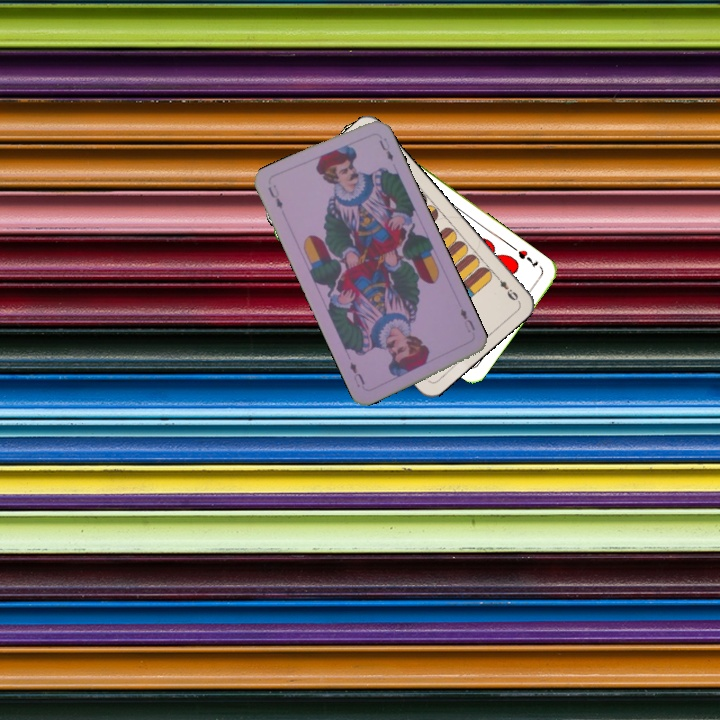E9: (491, 270, 521, 304)
EU: (456, 305, 478, 335), (264, 181, 285, 211)
H7: (514, 246, 541, 270)
